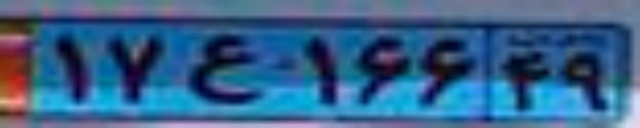1: (53, 34, 87, 103), (304, 34, 337, 104)
4: (503, 52, 548, 111)
6: (351, 36, 410, 105), (417, 40, 473, 105)
7: (103, 34, 169, 103)
9: (560, 53, 605, 112)
ain: (181, 36, 260, 104)
